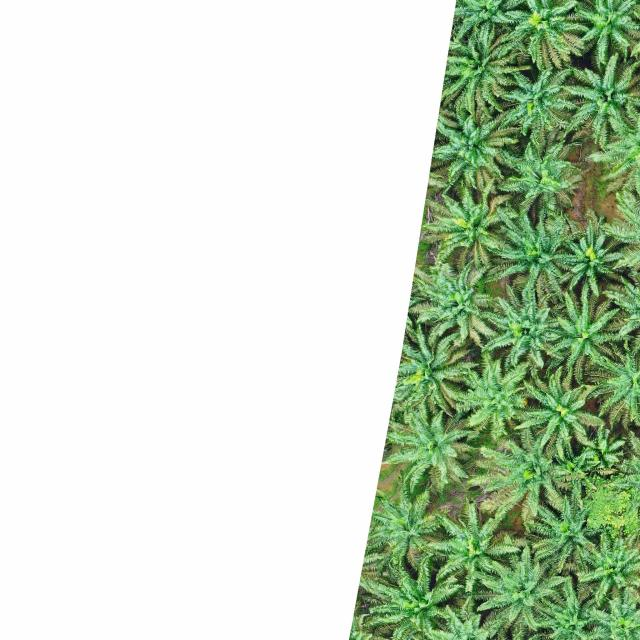Tree: (464, 421, 583, 520), (428, 499, 522, 597), (512, 366, 601, 462), (474, 548, 568, 638), (560, 46, 640, 151), (446, 24, 534, 117), (366, 557, 462, 640), (519, 494, 613, 575), (433, 107, 522, 192), (480, 282, 567, 367), (453, 351, 536, 440), (540, 286, 623, 374), (491, 136, 587, 212), (427, 184, 511, 270), (490, 203, 572, 289), (502, 63, 580, 147), (554, 208, 623, 302), (500, 0, 590, 70), (567, 525, 640, 601), (569, 0, 640, 71), (535, 575, 610, 640), (567, 424, 632, 478)
